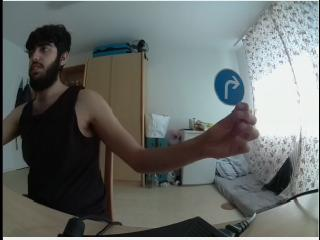right: (213, 66, 243, 106)
